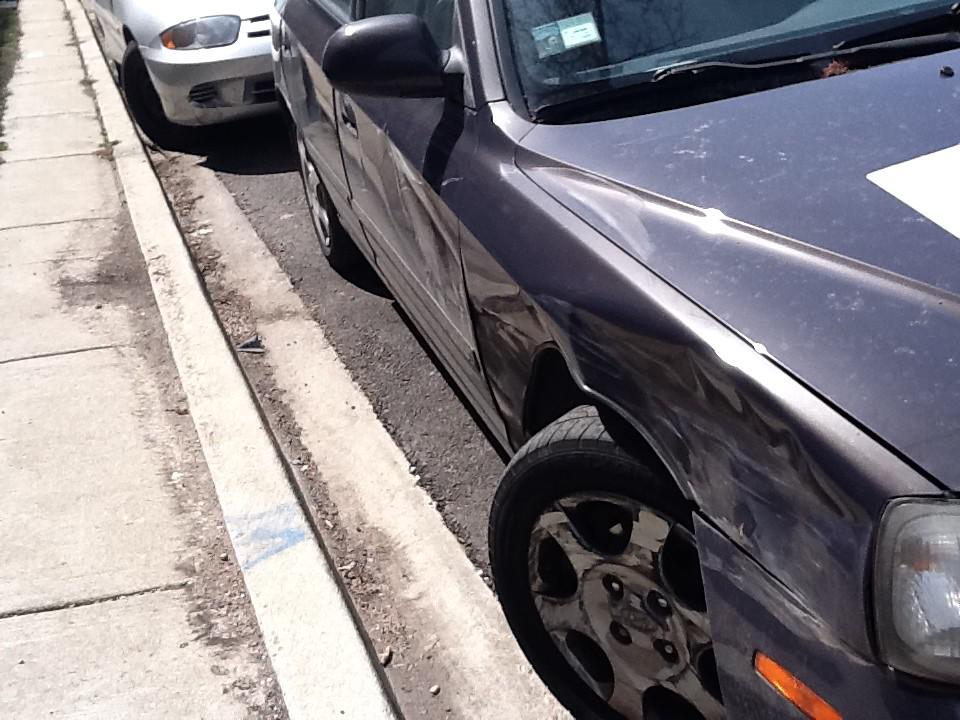fender-dent: (541, 216, 885, 559)
